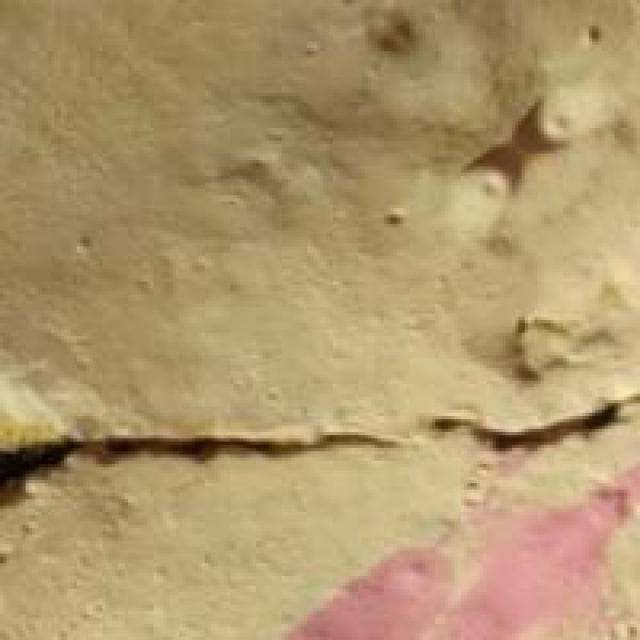Crack: (0, 333, 637, 621)
